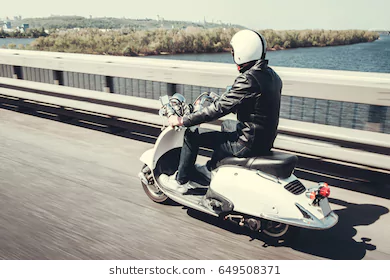with_helmet: (227, 28, 269, 69)
